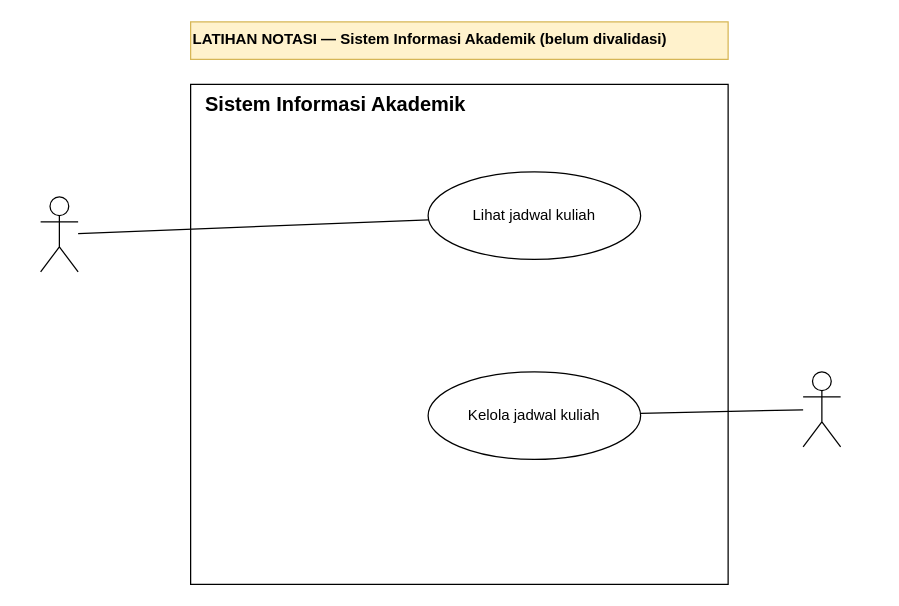
Some shapes in this 899 by 606 pixel diagram are drawn without their labels. Here are the shapes that lost their labels. From the top down, the centre of each, then its label:
At point 58,234: "Mahasiswa".
At point 821,409: "Admin Akademik".
